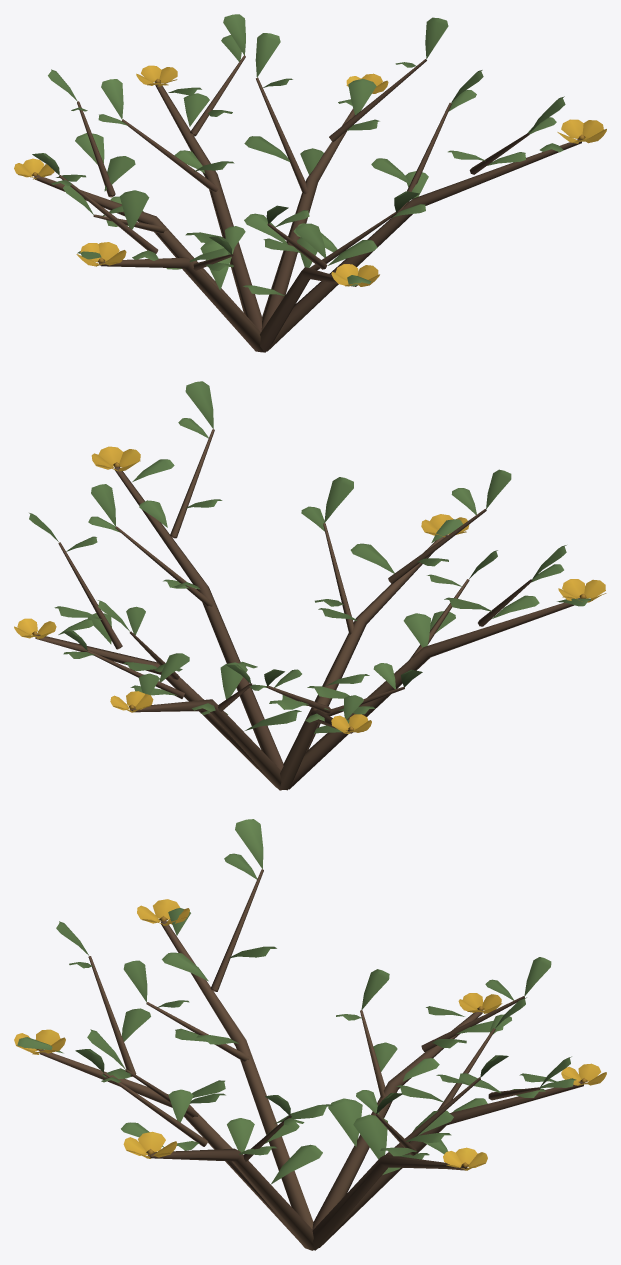
File: scrub_cinquefoil.glb
3 views of the same model, one above another, from view 1: azimuth 30°, elevation 25°; view 2: azimuth 150°, elevation 25°; view 3: azimuth 270°, elevation 25° (orthographic). The views are drawn at different scales.
Visible parts, largest first — view 1: scrub_cinquefoil; view 2: scrub_cinquefoil; view 3: scrub_cinquefoil.
Boxes of the visible parts, x1,y1,x2,y2 form: scrub_cinquefoil: (14,14,606,352); scrub_cinquefoil: (14,381,606,790); scrub_cinquefoil: (14,819,606,1250).
Size of the model in its own units: 1.2 by 0.6204 by 1.11.
